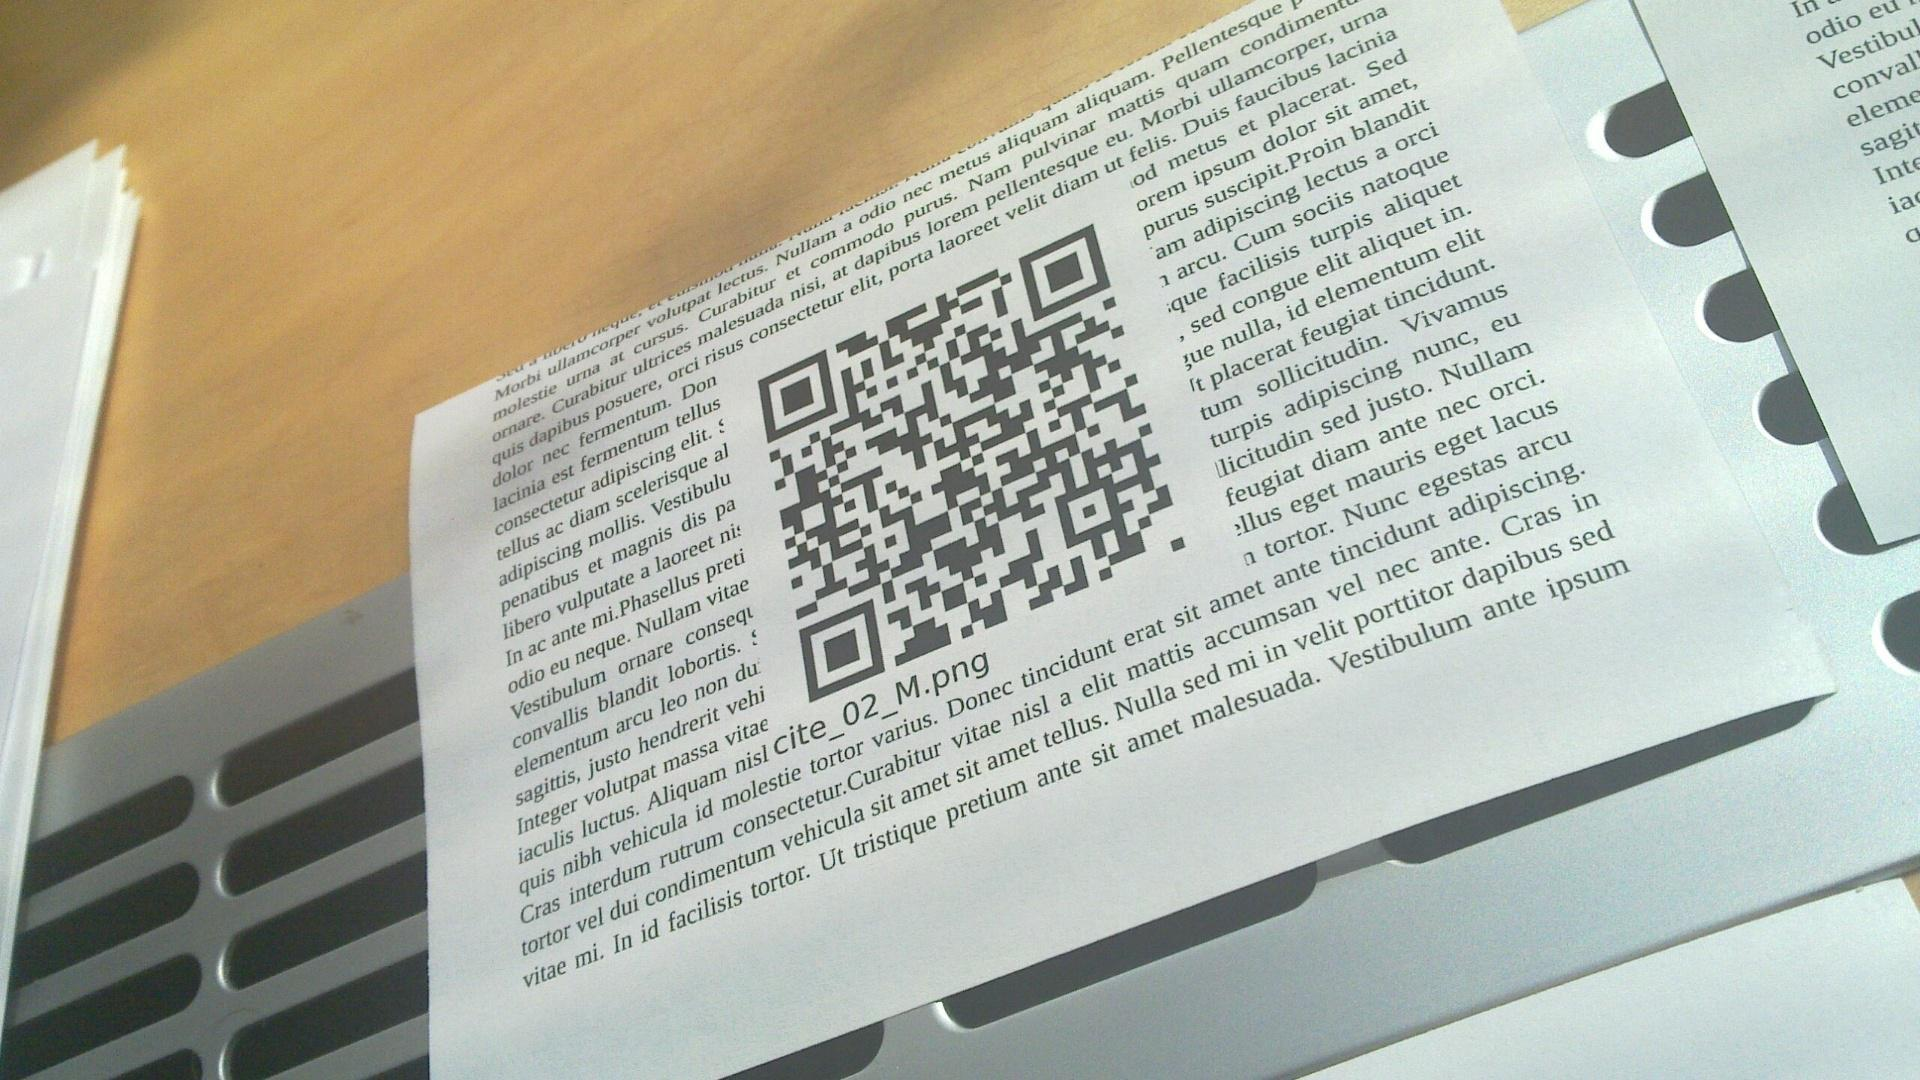Finder pattern: (791, 600, 886, 702), (1011, 233, 1116, 319), (753, 353, 837, 436)
